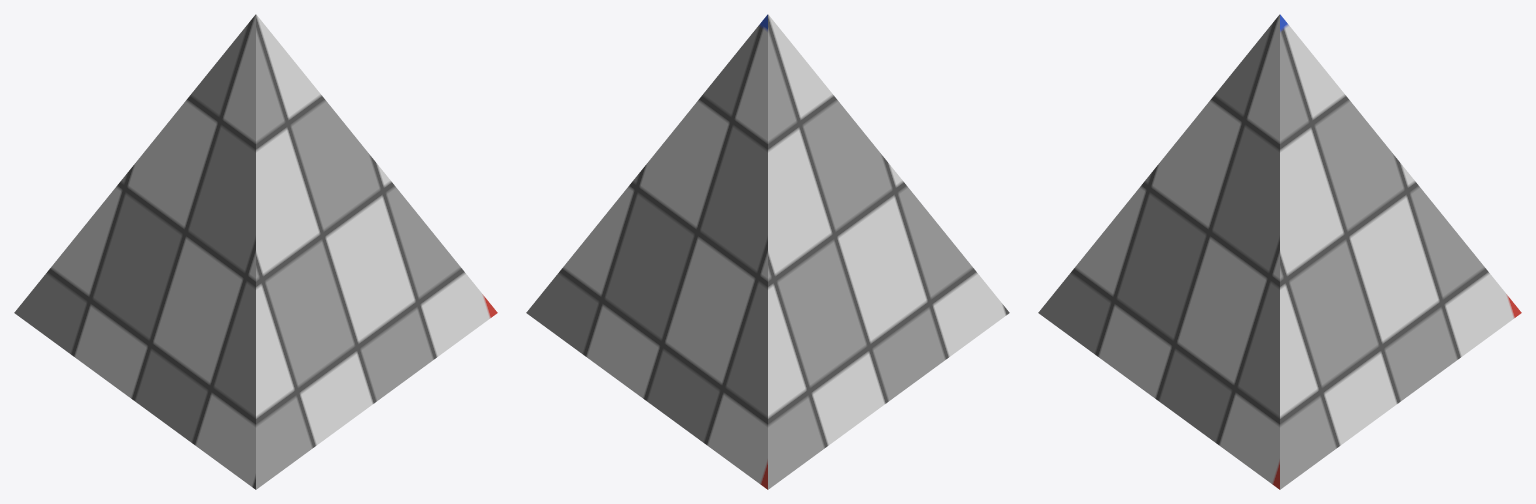
The model's file is tetrahedron.glb.
3 views of the same model, side by side, from view 1: azimuth 30°, elevation 25°; view 2: azimuth 150°, elevation 25°; view 3: azimuth 270°, elevation 25° (orthographic).
Visible parts, largest first — view 1: tetrahedron; view 2: tetrahedron; view 3: tetrahedron.
Boxes of the visible parts, x1=… form: tetrahedron: x1=14, y1=14, x2=497, y2=489; tetrahedron: x1=526, y1=14, x2=1009, y2=489; tetrahedron: x1=1038, y1=14, x2=1521, y2=489.
Bounding box in the file's own units: 1.41 × 1.33 × 1.63.
Materials: 1 (1 with a texture image).
